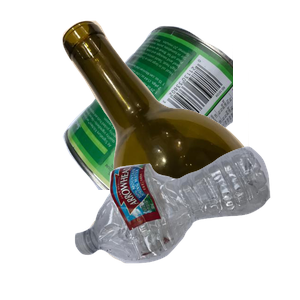glass: (60, 18, 300, 198)
metal: (60, 23, 300, 203)
plastic: (72, 144, 300, 300)
trash: (84, 133, 292, 300)
